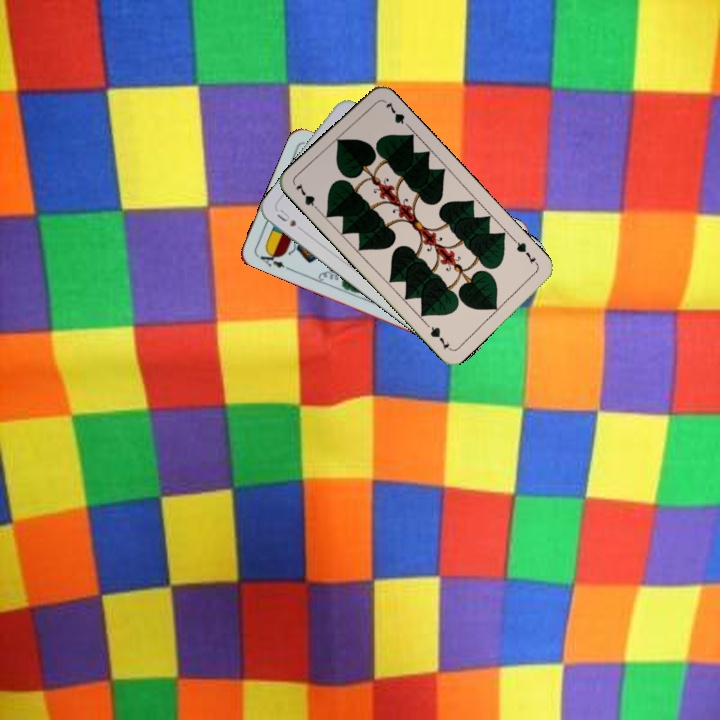EA: (256, 246, 292, 272)
G7: (291, 180, 323, 214), (509, 235, 541, 268)
SU: (273, 205, 299, 229)
